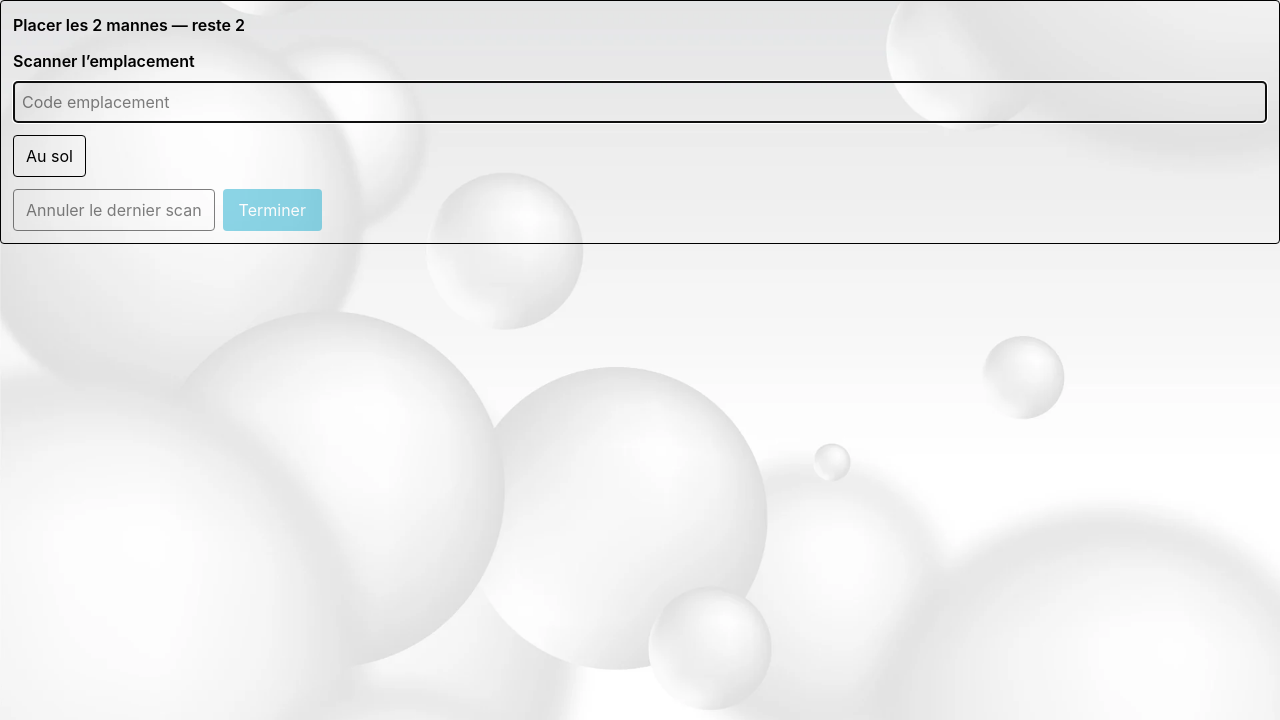
it: PlacementMannes › annuler le dernier scan réincrémente le reste
Type "A1G" into the field with placeholder "Code emplacement" at coordinates (640, 102), box [13, 81, 1267, 123]
Then press Enter
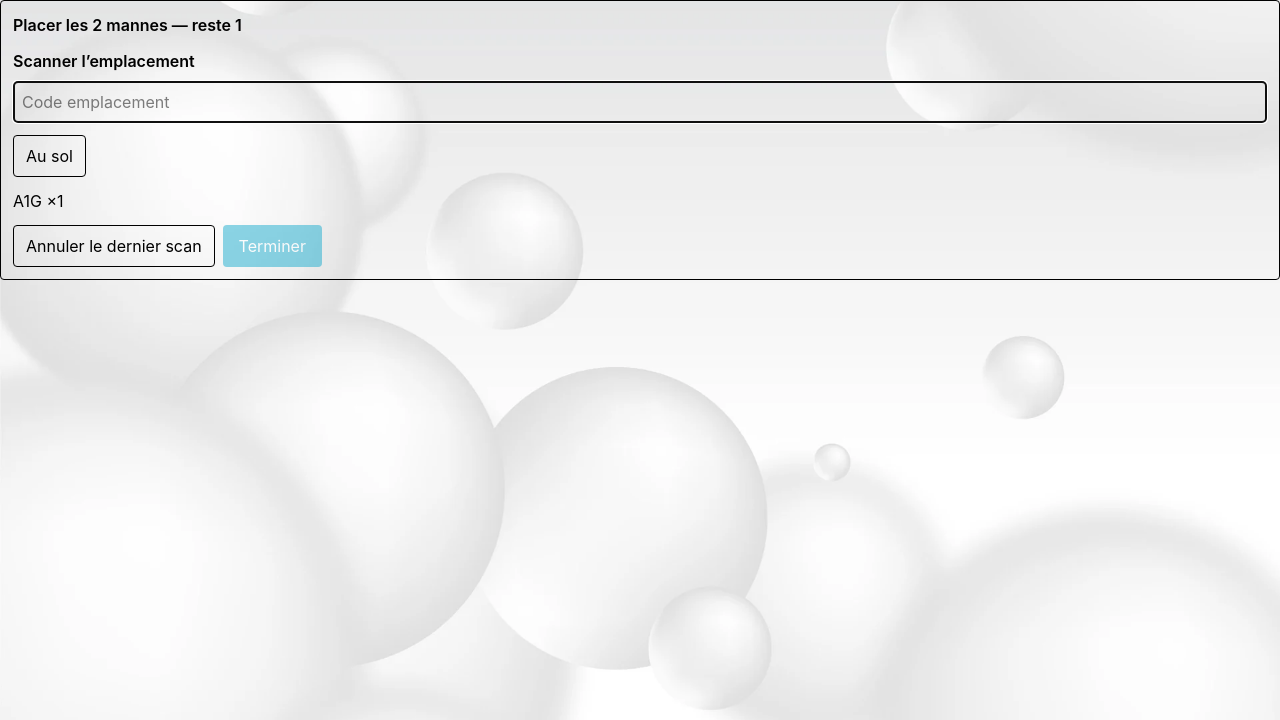
Result: the text "Placer les 2 mannes — reste 1" is shown at [13, 15, 242, 35]
Click the button "Annuler le dernier scan" at coordinates (114, 246), box [13, 225, 215, 267]
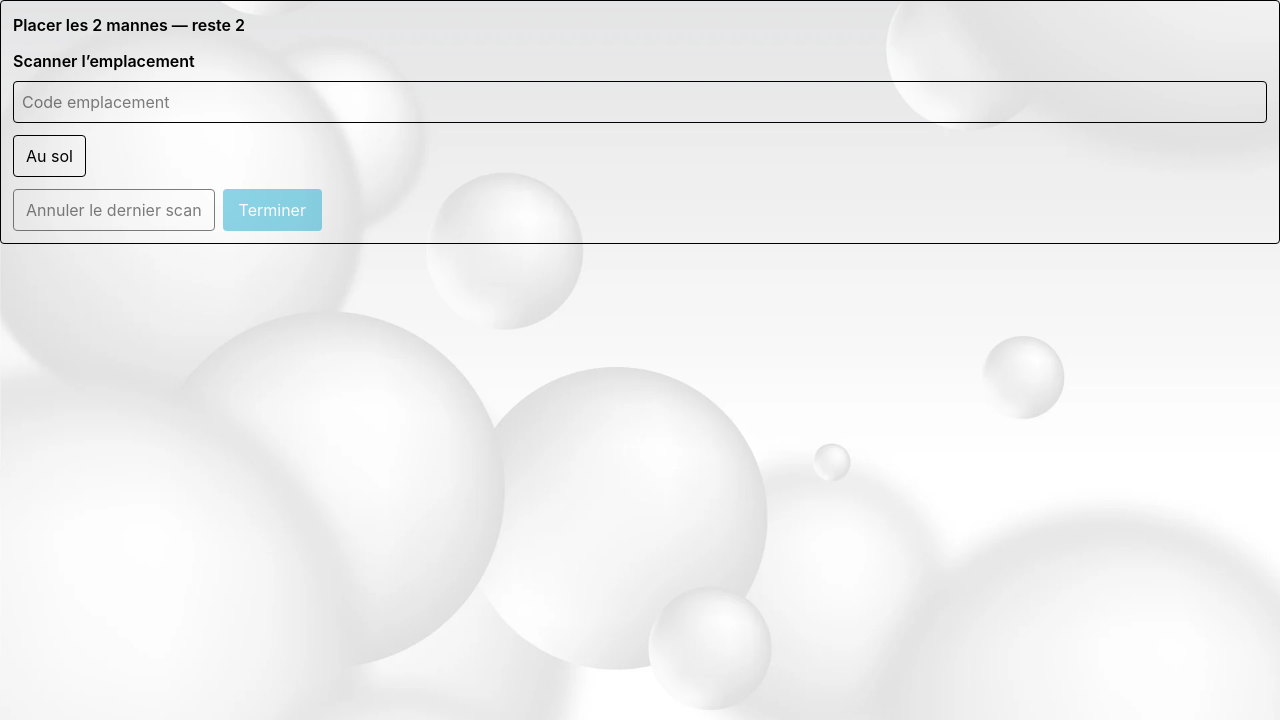
Result: the text "Placer les 2 mannes — reste 2" is shown at [13, 15, 245, 35]
